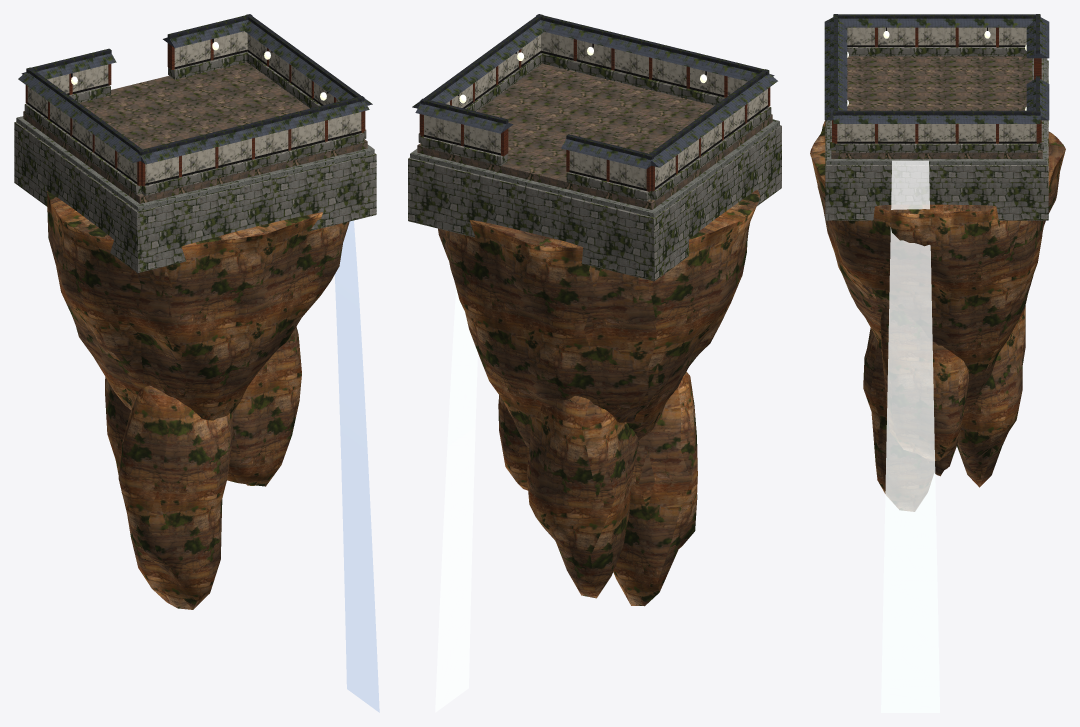
The model's file is Room_Event.fbx.
The picture shows the model from 3 angles, left to right: view 1: azimuth 30°, elevation 25°; view 2: azimuth 150°, elevation 25°; view 3: azimuth 270°, elevation 25°; orthographic projection. The views are drawn at different scales.
Visible parts, largest first — view 1: Event_Rock_LOD0, Event_Structure_LOD0, Waterfall_3; view 2: Event_Rock_LOD0, Event_Structure_LOD0, Waterfall_3; view 3: Event_Rock_LOD0, Event_Structure_LOD0, Waterfall_3.
Part boxes in pixels (<box>): Event_Rock_LOD0: <box>47,191,349,609</box>; Event_Structure_LOD0: <box>14,14,376,272</box>; Waterfall_3: <box>334,220,379,712</box>; Event_Rock_LOD0: <box>438,189,760,606</box>; Event_Structure_LOD0: <box>408,14,781,281</box>; Waterfall_3: <box>435,288,477,712</box>; Event_Rock_LOD0: <box>810,121,1065,511</box>; Event_Structure_LOD0: <box>824,14,1049,220</box>; Waterfall_3: <box>881,160,939,712</box>.
Size of what is drawn, in the model's own units: 23.08 by 48.65 by 19.38.
